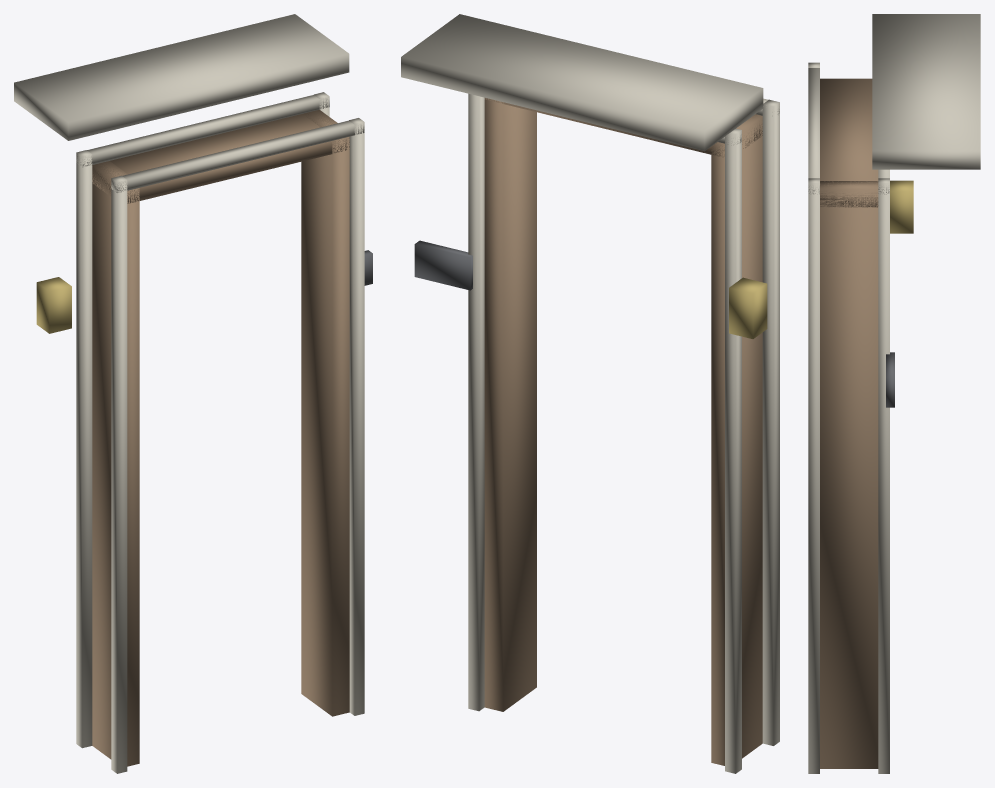
File: doorway_motel_w86_h240_d24.glb
The picture shows the model from 3 angles, left to right: view 1: azimuth 30°, elevation 25°; view 2: azimuth 150°, elevation 25°; view 3: azimuth 270°, elevation 25°; orthographic projection. The views are drawn at different scales.
Visible parts, largest first — view 1: world; view 2: world; view 3: world.
Part boxes in pixels (bbox=[...]): world: bbox=[14, 14, 372, 773]; world: bbox=[401, 14, 779, 773]; world: bbox=[808, 14, 980, 773].
Bounding box in the file's own units: 1.44 × 2.7 × 0.6682.
